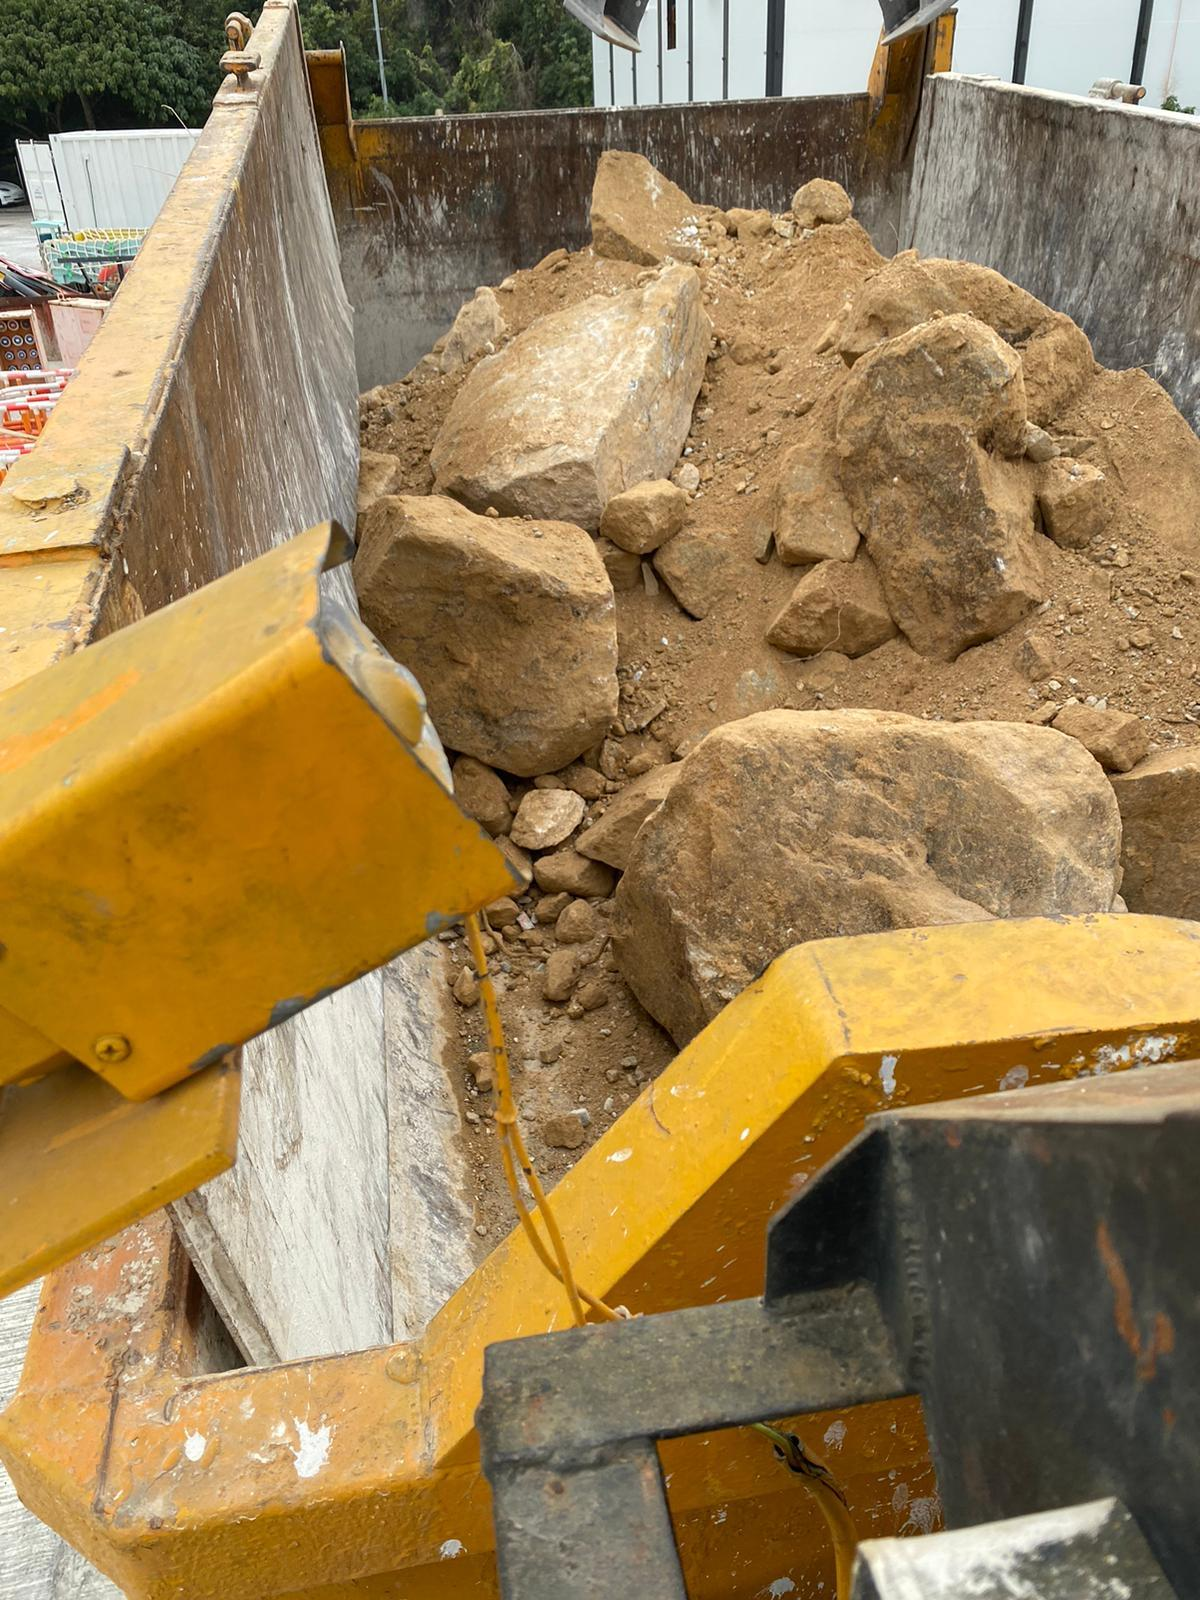dry: (377, 190, 1200, 1010)
